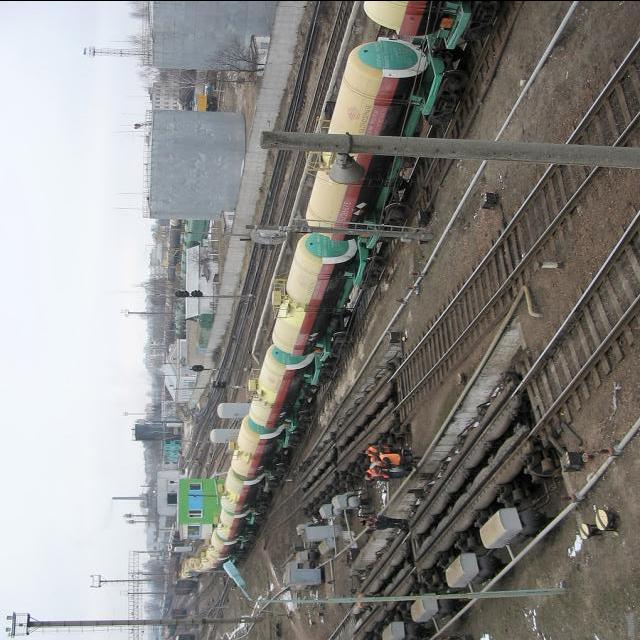wagon: (336, 200, 354, 222), (294, 332, 308, 344)
